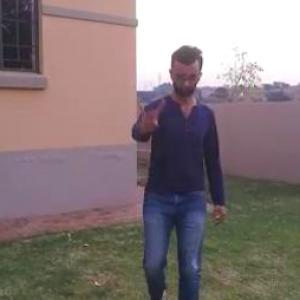takeoff-hand: (131, 92, 168, 137)
